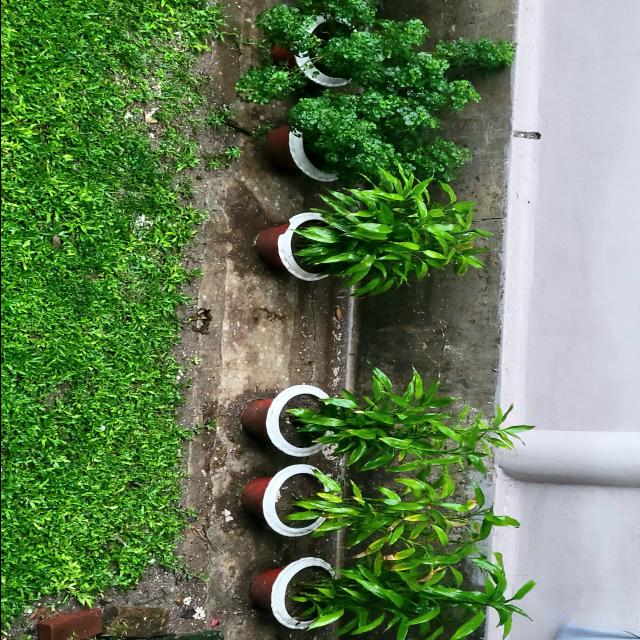Breeding Place: (205, 370, 544, 480), (222, 89, 536, 205), (210, 177, 503, 299), (216, 456, 518, 574), (212, 0, 506, 105), (235, 543, 543, 640)
